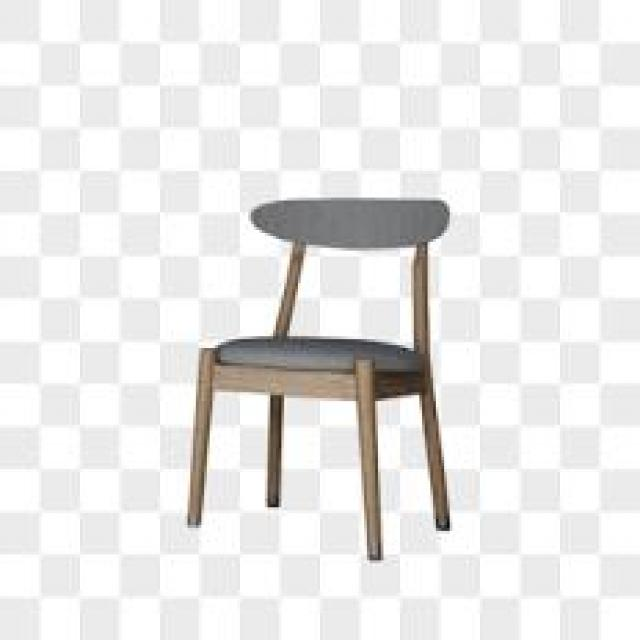chair: (121, 128, 483, 577)
